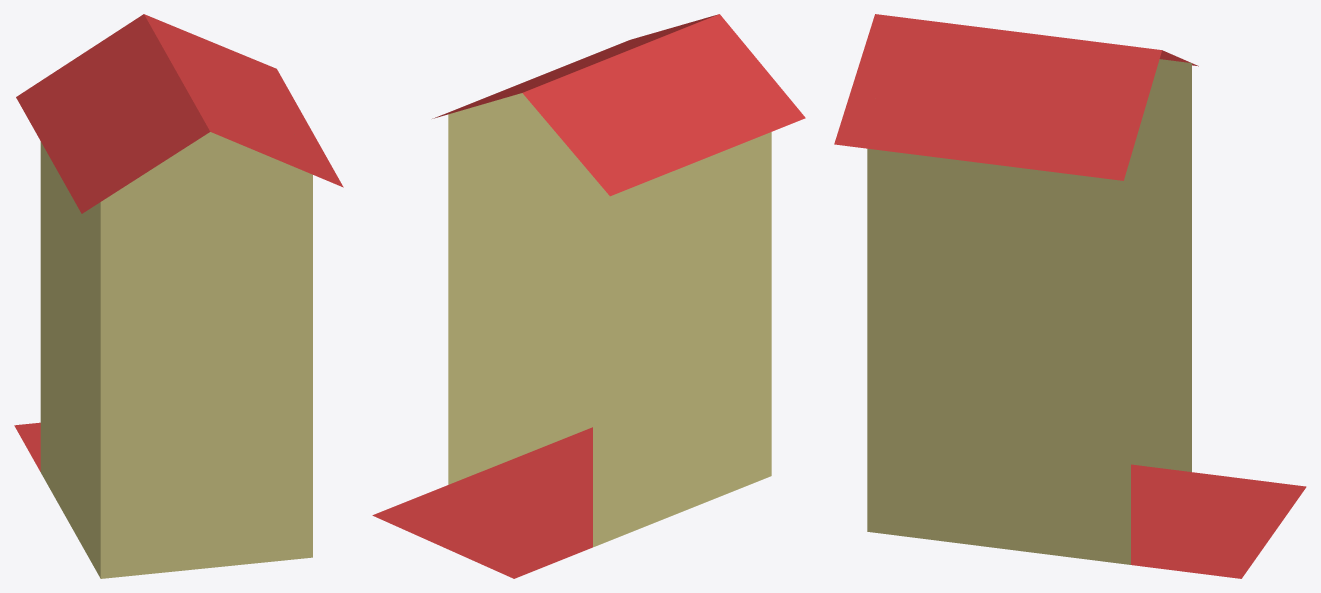
3 views of the same model, side by side, from view 1: azimuth 30°, elevation 25°; view 2: azimuth 150°, elevation 25°; view 3: azimuth 270°, elevation 25° (orthographic). The views are drawn at different scales.
Size of the model in its own units: 6.79 by 8.83 by 9.64.
